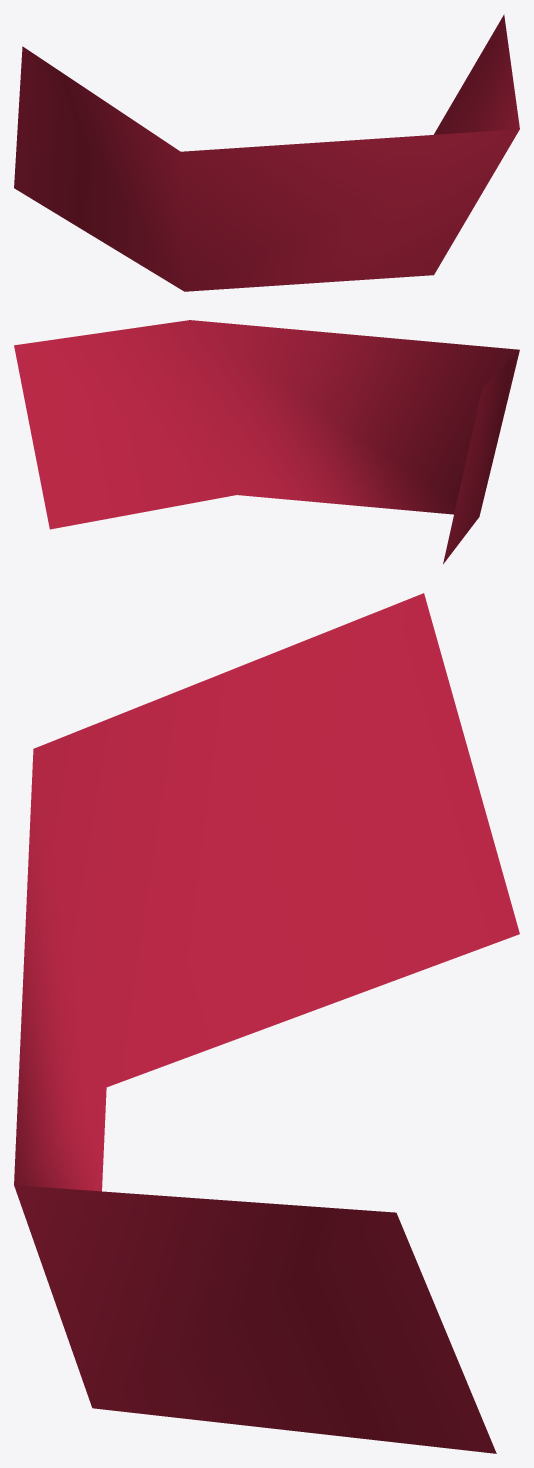
3 renders of one model, top to bottom at view 1: azimuth 30°, elevation 25°; view 2: azimuth 150°, elevation 25°; view 3: azimuth 270°, elevation 25°, orthographic. The views are drawn at different scales.
Parts seen in each view (by area): view 1: ef_405; view 2: ef_405; view 3: ef_405.
Part boxes in pixels (x1=…): ef_405: x1=14, y1=14, x2=519, y2=291; ef_405: x1=14, y1=320, x2=519, y2=564; ef_405: x1=14, y1=593, x2=519, y2=1453.
Bounding box in the file's own units: 0.9878 × 0.4936 × 0.4568.
1 material, 1 textured.
